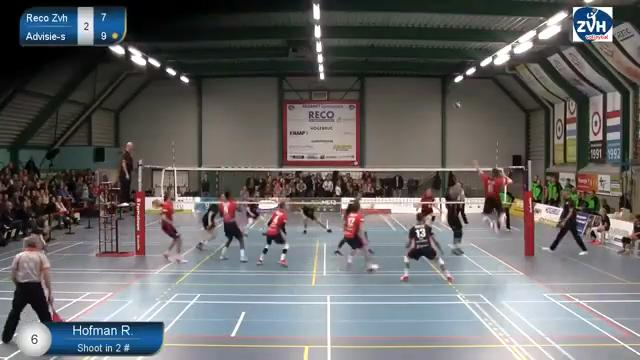attacco: (469, 154, 512, 234)
